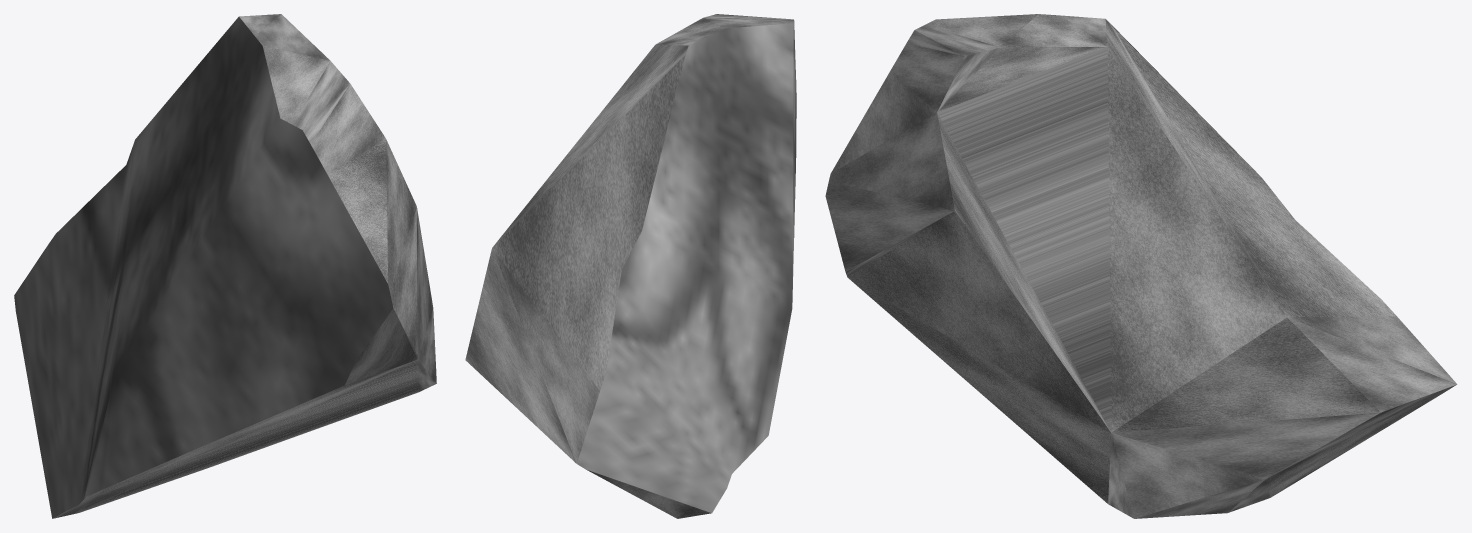
Rendered from body_cell_043.fbx.
The picture shows the model from 3 angles, left to right: view 1: azimuth 30°, elevation 25°; view 2: azimuth 150°, elevation 25°; view 3: azimuth 270°, elevation 25°; orthographic projection. The views are drawn at different scales.
Visible parts, largest first — view 1: body_cell.043; view 2: body_cell.043; view 3: body_cell.043.
Boxes of the visible parts, left/top/right/bottom form: body_cell.043: left=14, top=14, right=436, bottom=518; body_cell.043: left=465, top=14, right=796, bottom=518; body_cell.043: left=825, top=14, right=1457, bottom=518.
Size of the model in its own units: 33.2 by 52.33 by 58.49.
